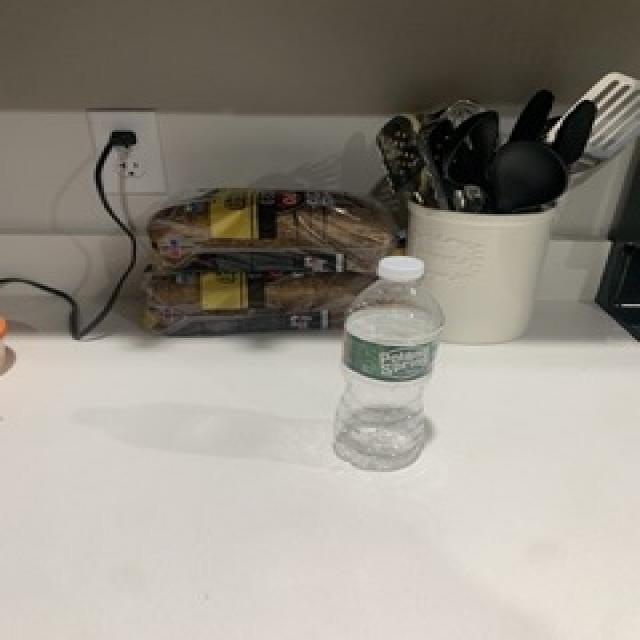water_bottle: (330, 255, 446, 476)
